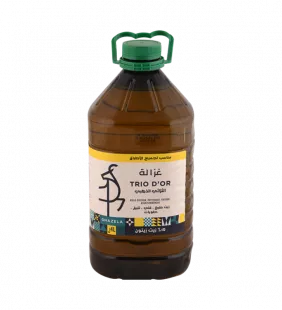GHAZELA: (76, 21, 204, 284)
